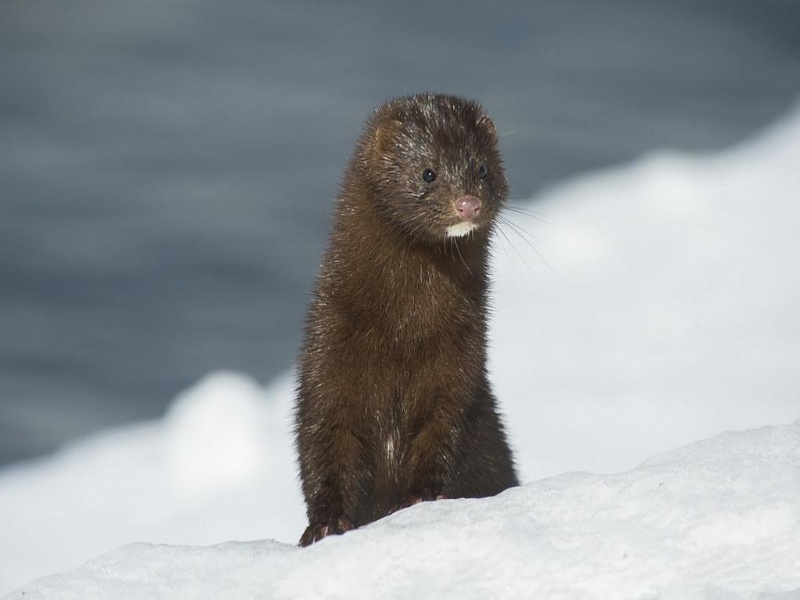minkish: (292, 85, 522, 549)
